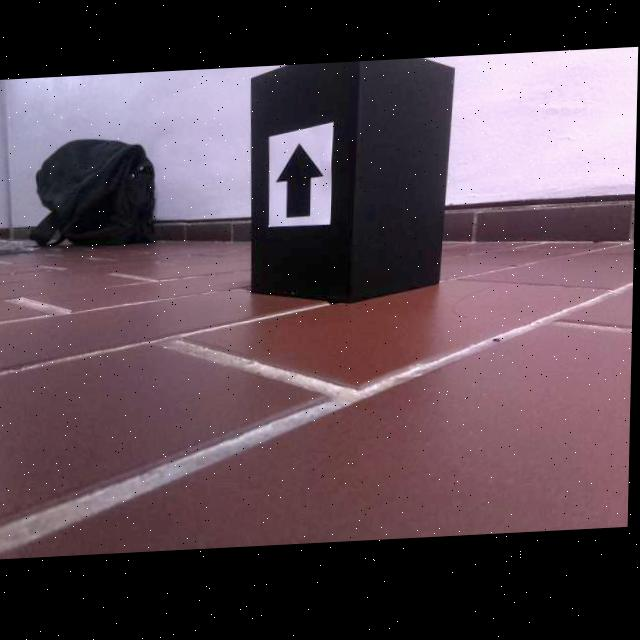UP: (277, 145, 326, 222)
